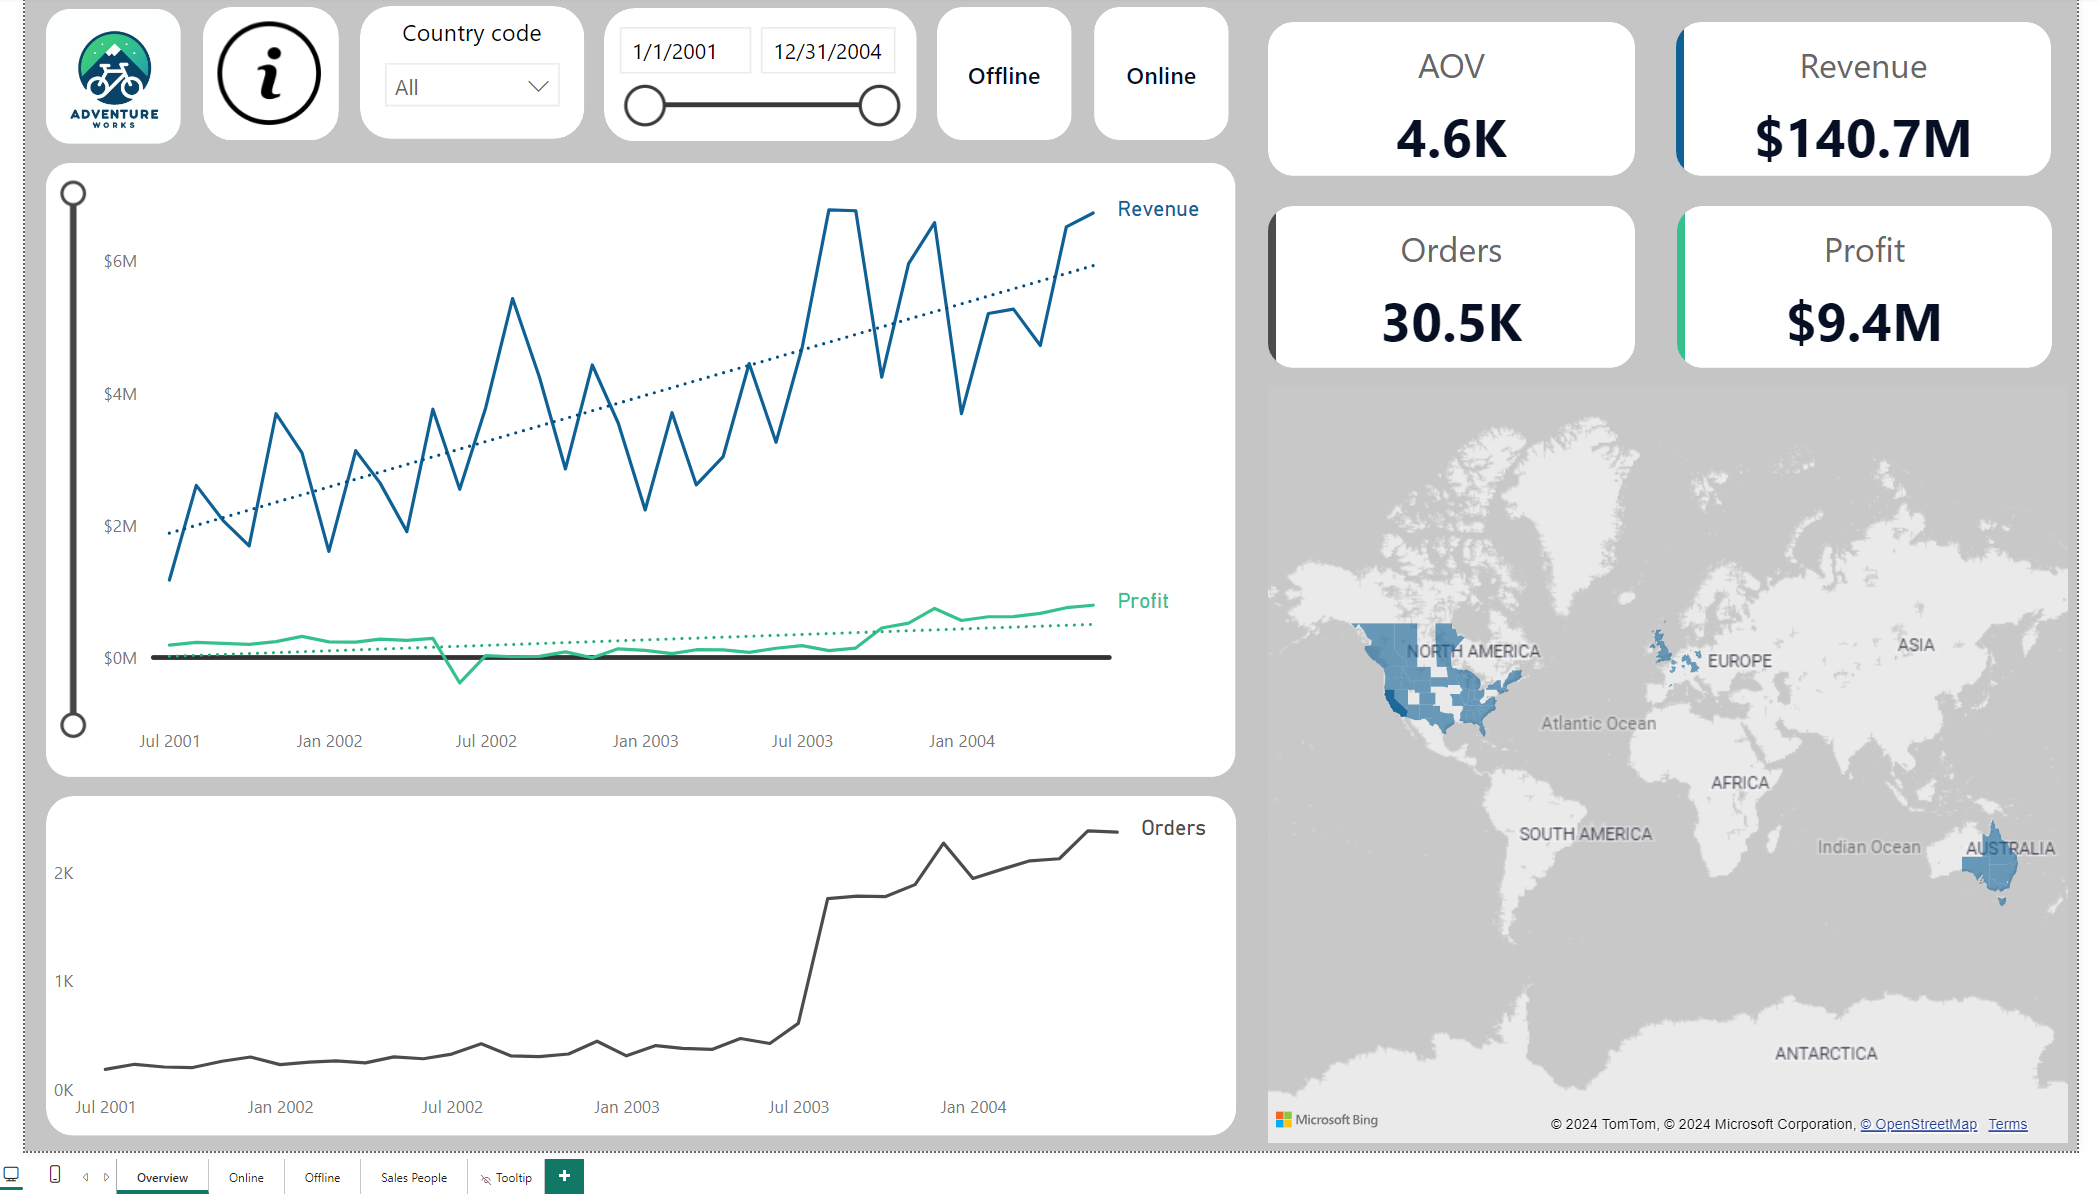

This screenshot's page, from the dashboard's own definition file:
{"tool":"powerbi","page":{"name":"Overview","canvas":[1280,720],"ordinal":0},"visuals":[{"type":"shape","title":"Shape Country","box":[208.8,5.4,139.9,82.9],"z":0,"group":"g3"},{"type":"shape","title":"Shape Date","box":[360.8,6.7,195.3,83.3],"z":0,"group":"g4"},{"type":"filledMap","title":"Map","fields":{"Category":["salesorderheader.country_code","salesorderheader.ship_province"]},"box":[770.7,236.9,509.1,483.1],"z":0},{"type":"shape","title":"Shape Orders","box":[13.3,498.7,742.7,212],"z":0,"group":"g1"},{"type":"slicer","title":"Order Date ","fields":{"Values":["CalendarTable.Date"]},"box":[357.9,8.6,195.8,81.2],"z":1000,"group":"g4"},{"type":"slicer","title":"Country code","fields":{"Values":["salesorderheader.country_code"]},"box":[214.1,11.2,128.6,77.1],"z":1000,"group":"g3"},{"type":"lineChart","title":"Monthly Sales and Profit","fields":{"Y":["Sum(salesorderheader.TotalDue)","Sum(Products.Revenue)"],"Category":["CalendarTable.Date Hierarchy.MonthYear"]},"box":[13,103.5,742.4,382.8],"z":1000,"group":"g2"},{"type":"cardVisual","title":"Card (Orders)","fields":{"Data":["CountNonNull(salesorderheader.SalesOrderID)"]},"box":[770.7,125.3,239.3,111.3],"z":1000},{"type":"lineChart","title":"Monthly Orders","fields":{"Y":["CountNonNull(salesorderheader.SalesOrderID)"],"Category":["CalendarTable.Date Hierarchy.MonthYear"]},"box":[13.3,498.7,742.7,212],"z":1000,"group":"g1"},{"type":"cardVisual","title":"Card (Revenue)","fields":{"Data":["Sum(salesorderheader.TotalDue)"]},"box":[1025.3,10.7,244.7,106.7],"z":2000},{"type":"cardVisual","title":"Card (Profit)","fields":{"Data":["Sum(Products.Revenue)"]},"box":[1026,125.3,244,111.3],"z":3000},{"type":"cardVisual","title":"Card (AOV)","fields":{"Data":["salesorderheader.AOV"]},"box":[770.7,10.7,239.3,106.7],"z":4000},{"type":"group","id":"g1","title":"Orders","box":[13.3,498.7,742.7,212],"z":5000},{"type":"group","id":"g2","title":"Revenue & Profit","box":[13,103.5,742.4,382.8],"z":6000},{"type":"advancedSlicerVisual","title":"Type sclicer","fields":{"Values":["salesorderheader.SalesType"]},"box":[564.2,1.2,192.1,93.8],"z":7000},{"type":"group","id":"g3","title":"Country slicer","box":[208.8,5.4,139.6,83.3],"z":8000},{"type":"group","id":"g4","title":"Date slicer","box":[357.9,6.7,198.3,83.3],"z":9000},{"type":"actionButton","title":"Info button 2","box":[111.3,6,84.7,83.3],"z":10000},{"type":"actionButton","title":"Info button 1","box":[111.3,6,84.7,83.3],"z":11000},{"type":"image","title":"Logo","box":[13.1,7.5,83.5,83.5],"z":16000}]}

Visuals, with their boxes on the page's 1280x720 design canvas (x1, y1, x2, y2). These are canvas units, not pixel positions in the 2098x1194 screenshot, which may show the page scaled, cropped or inside an application window:
"Shape Country" shape: select_region(209, 5, 349, 88)
"Shape Date" shape: select_region(361, 7, 556, 90)
"Map" filledMap: select_region(771, 237, 1280, 720)
"Shape Orders" shape: select_region(13, 499, 756, 711)
"Order Date " slicer: select_region(358, 9, 554, 90)
"Country code" slicer: select_region(214, 11, 343, 88)
"Monthly Sales and Profit" lineChart: select_region(13, 104, 755, 486)
"Card (Orders)" cardVisual: select_region(771, 125, 1010, 237)
"Monthly Orders" lineChart: select_region(13, 499, 756, 711)
"Card (Revenue)" cardVisual: select_region(1025, 11, 1270, 117)
"Card (Profit)" cardVisual: select_region(1026, 125, 1270, 237)
"Card (AOV)" cardVisual: select_region(771, 11, 1010, 117)
"Orders" group: select_region(13, 499, 756, 711)
"Revenue & Profit" group: select_region(13, 104, 755, 486)
"Type sclicer" advancedSlicerVisual: select_region(564, 1, 756, 95)
"Country slicer" group: select_region(209, 5, 348, 89)
"Date slicer" group: select_region(358, 7, 556, 90)
"Info button 2" actionButton: select_region(111, 6, 196, 89)
"Info button 1" actionButton: select_region(111, 6, 196, 89)
"Logo" image: select_region(13, 8, 97, 91)
